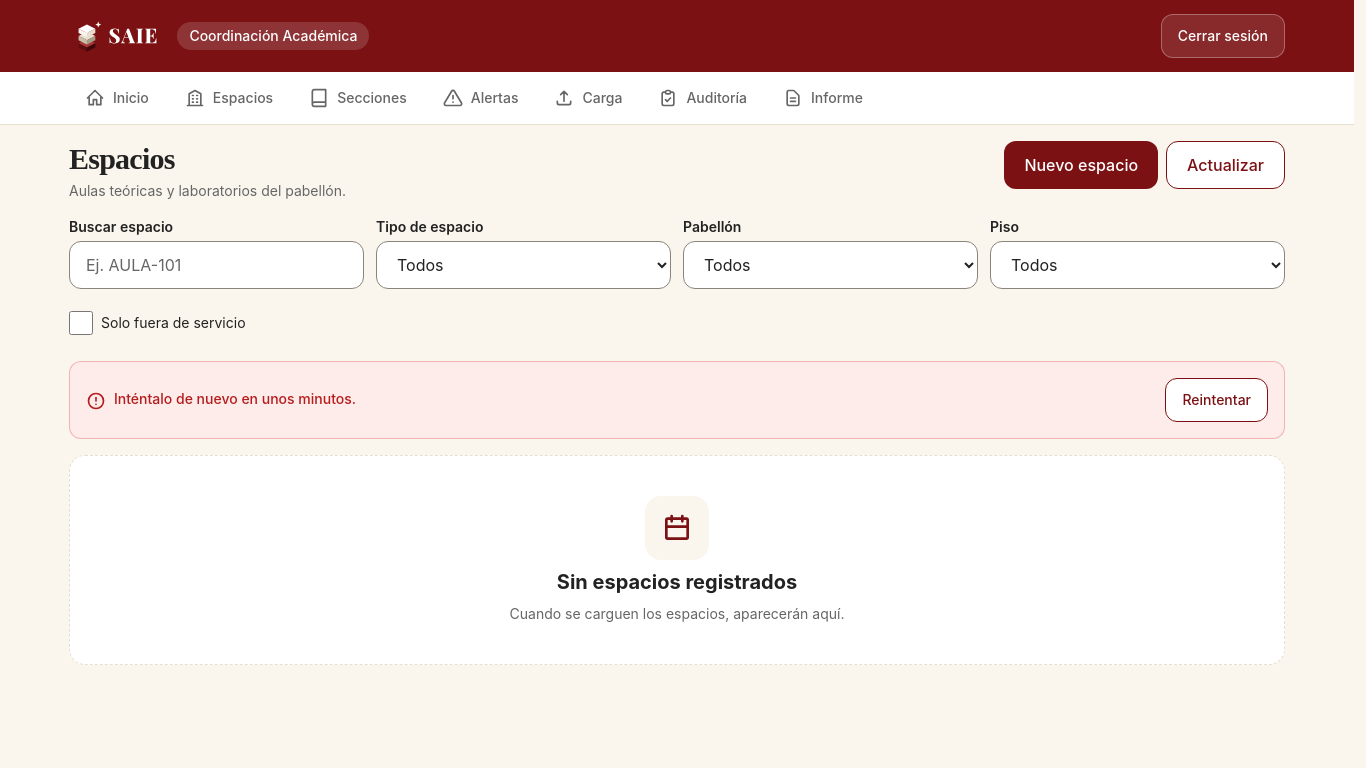
Test: Gestión de espacios (Issue 4.15) › muestra el error y permite reintentar
The width and height of the screenshot is (1366, 768).
Expected: the text "Inténtalo de nuevo en unos minutos." is shown, [114,389,356,409]
Click the button "Reintentar" at (1217, 400), box [1166,378,1268,422]
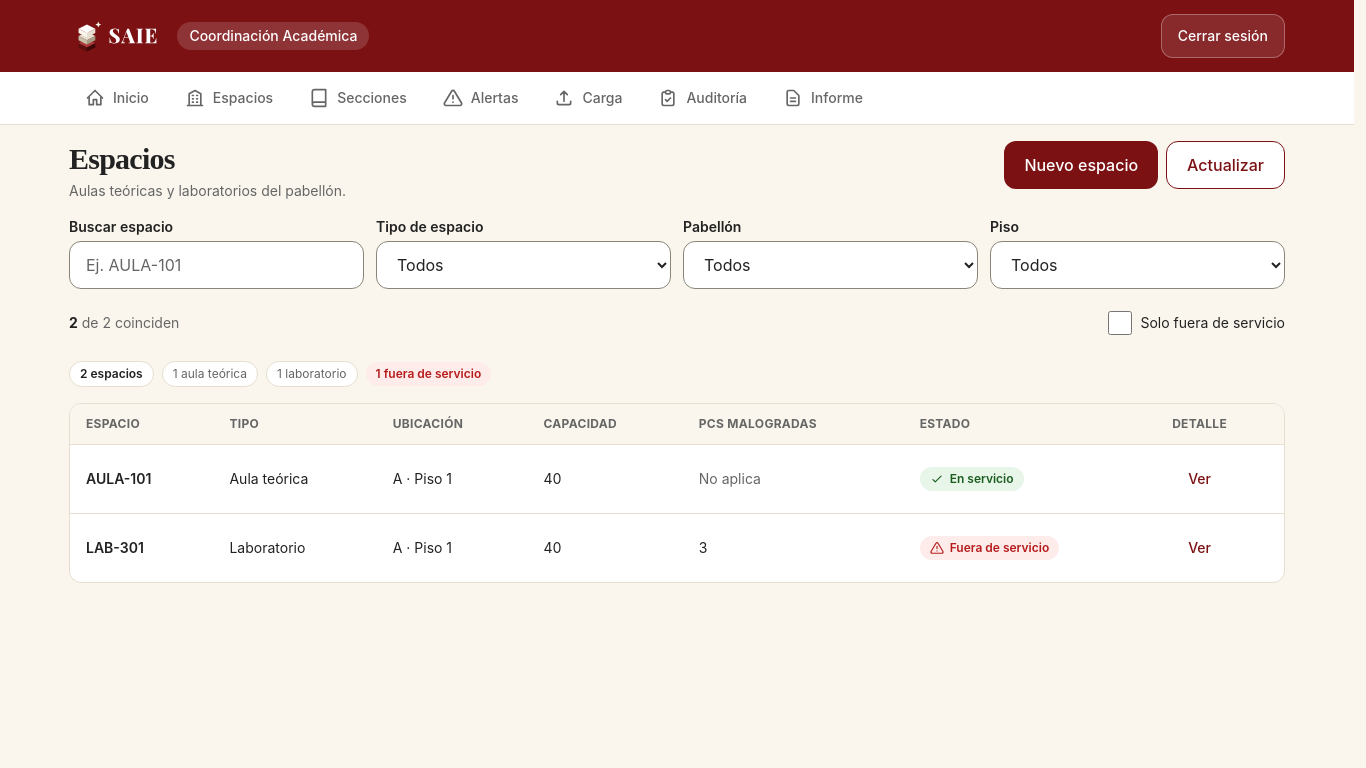
Expected: the text "AULA-101" is shown, [70,444,213,514]
